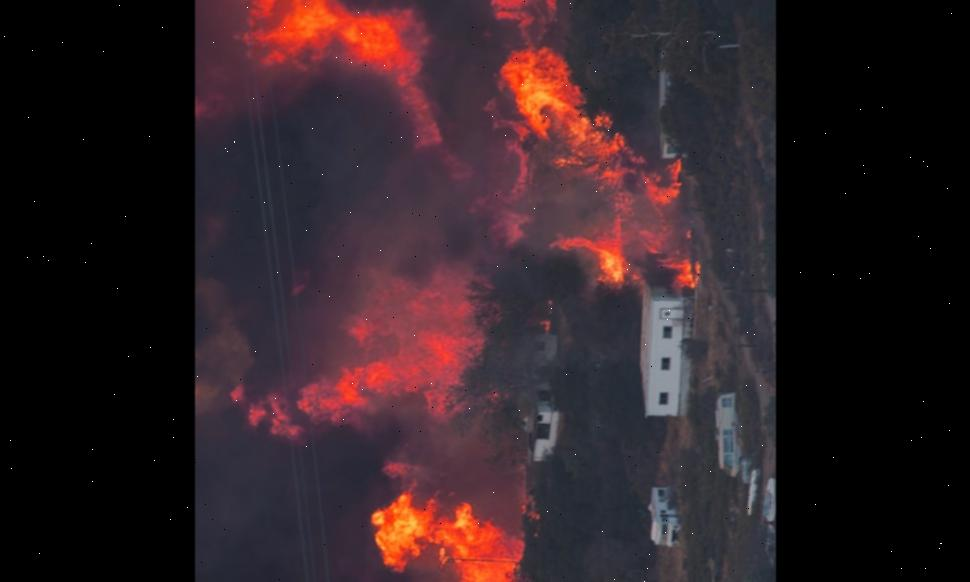fire: (198, 0, 693, 582)
